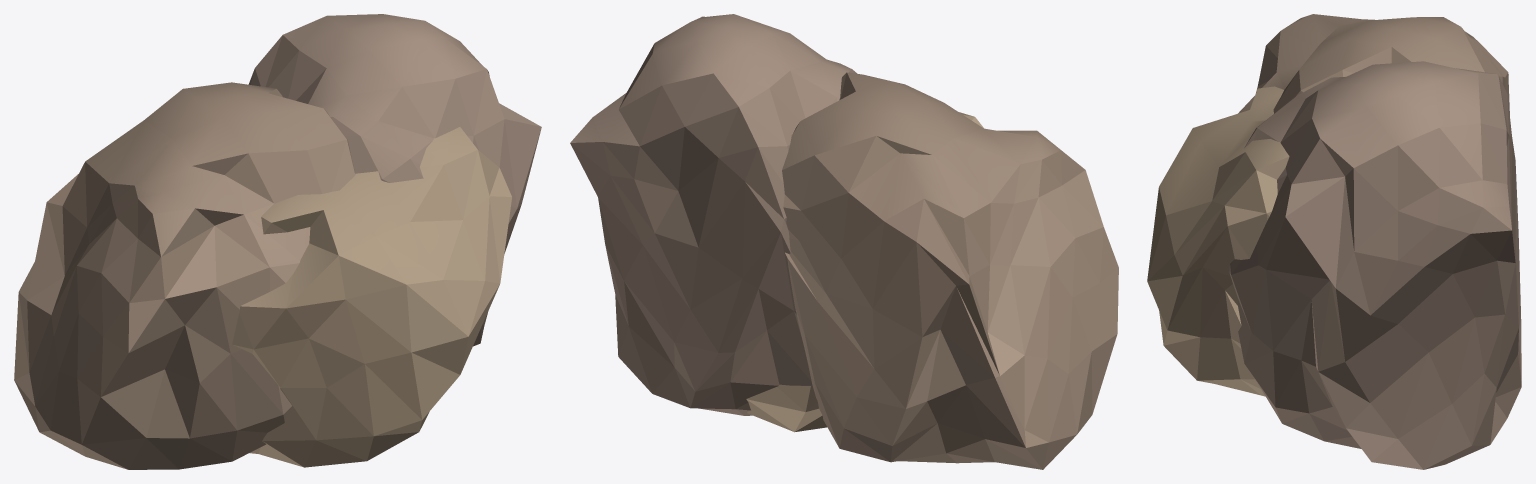
File: Granit_1.fbx
3 renders of one model, left to right at view 1: azimuth 30°, elevation 25°; view 2: azimuth 150°, elevation 25°; view 3: azimuth 270°, elevation 25°, orthographic. The views are drawn at different scales.
Visible parts, largest first — view 1: Granit_1; view 2: Granit_1; view 3: Granit_1.
Boxes of the visible parts, x1,y1,x2,y2 form: Granit_1: (14, 14, 541, 469); Granit_1: (570, 14, 1118, 469); Granit_1: (1147, 14, 1521, 469).
Bounding box in the file's own units: 163 × 130 × 113.
